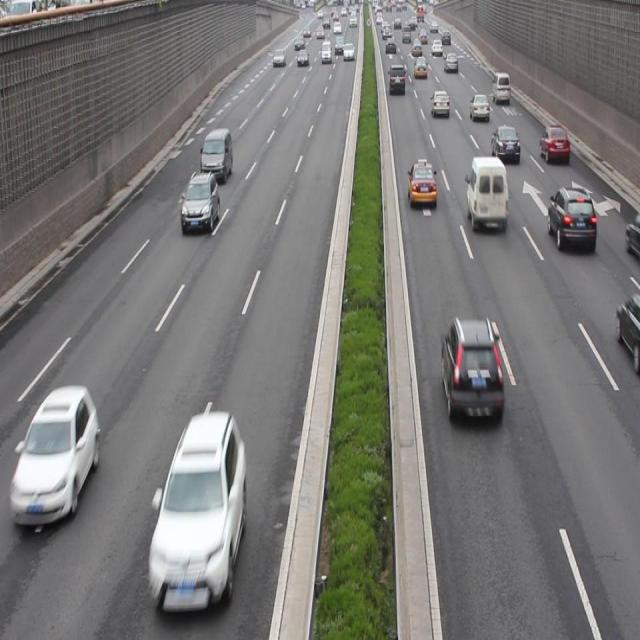car: (150, 411, 248, 611), (12, 389, 101, 524), (440, 315, 502, 426), (546, 186, 594, 248), (180, 172, 219, 231), (408, 159, 433, 207), (490, 125, 519, 162), (539, 127, 568, 159)
truck: (466, 158, 506, 228), (200, 128, 232, 180)
